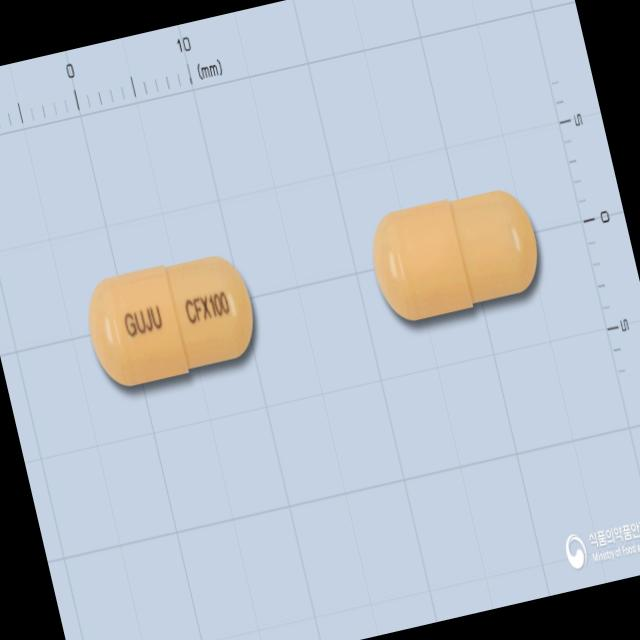Cefsin Cap: (73, 239, 269, 401)
